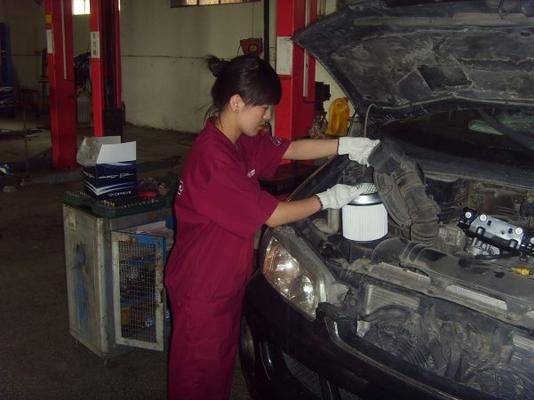person: (164, 55, 380, 400)
